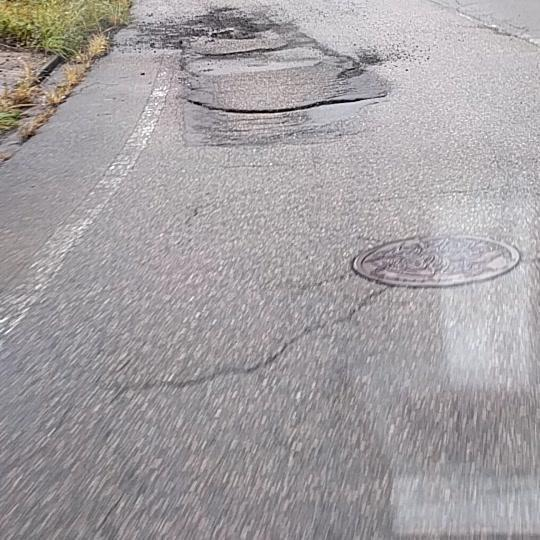pothole: (154, 10, 272, 44)
